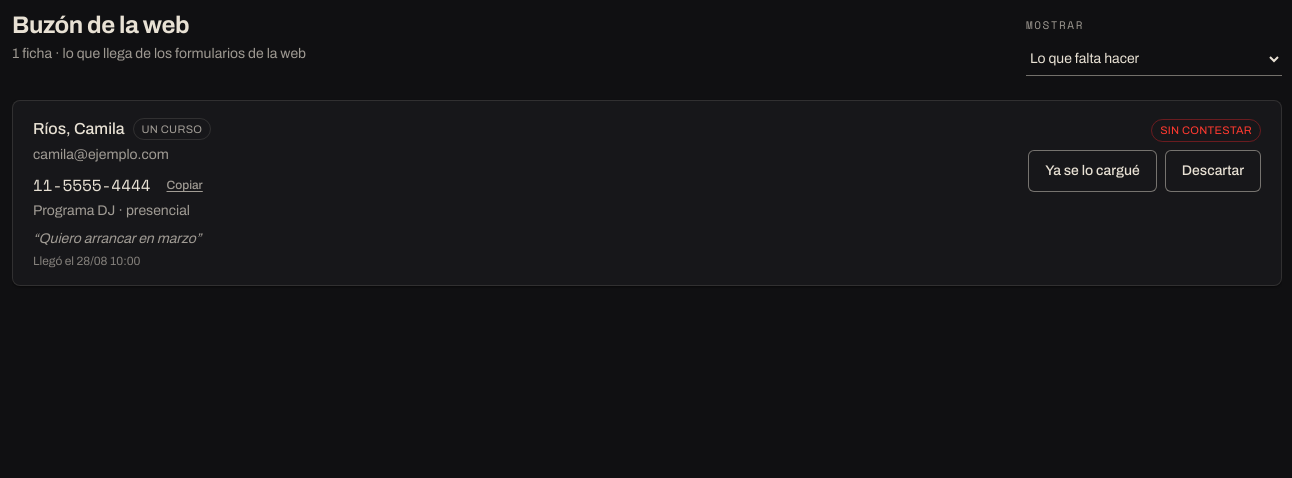
Test case: convertir la ficha en cuenta › para un curso sin gemelo, en cambio, la cuenta sigue siendo el paso previo
The image size is (1292, 478).
Click the button "Ya se lo cargué" at (1092, 170), box [1028,150,1157,192]
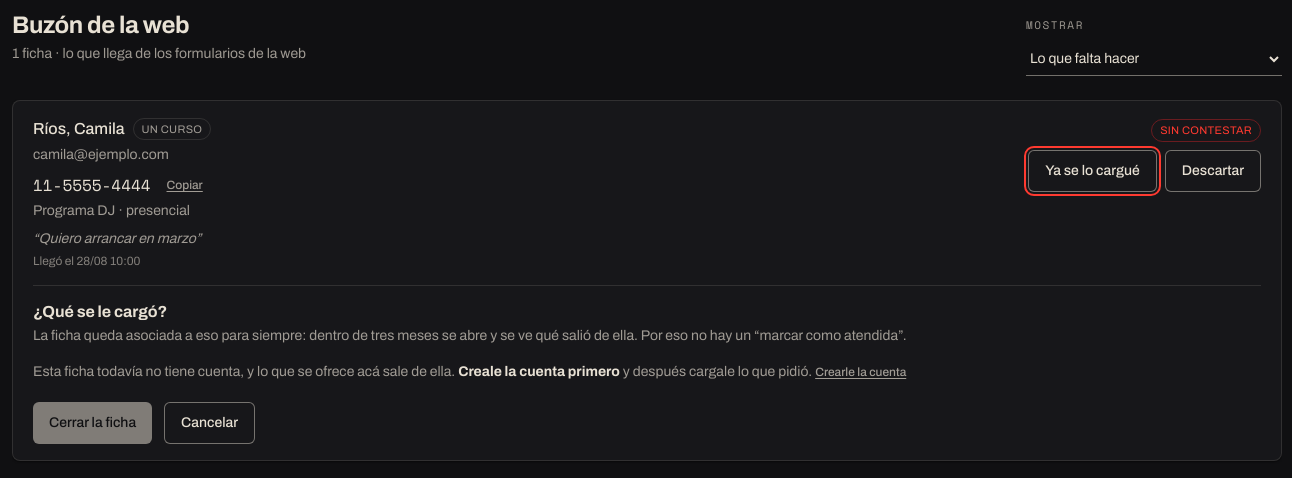
Now the text "Creale la cuenta primero" is shown, box [458,364,620,379]
